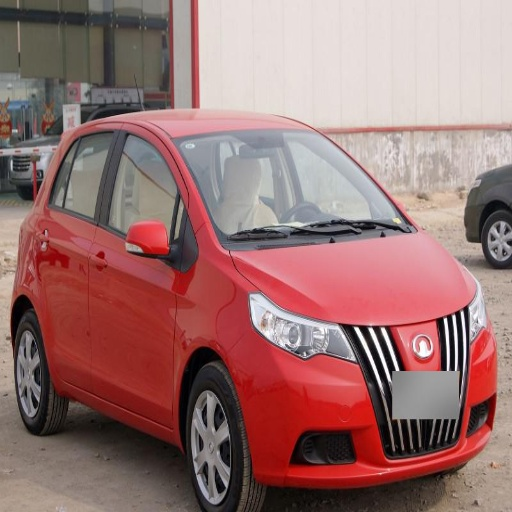front_bumper: (234, 306, 495, 486)
front_right_door: (89, 127, 193, 424)
front_right_light: (250, 295, 356, 361)
